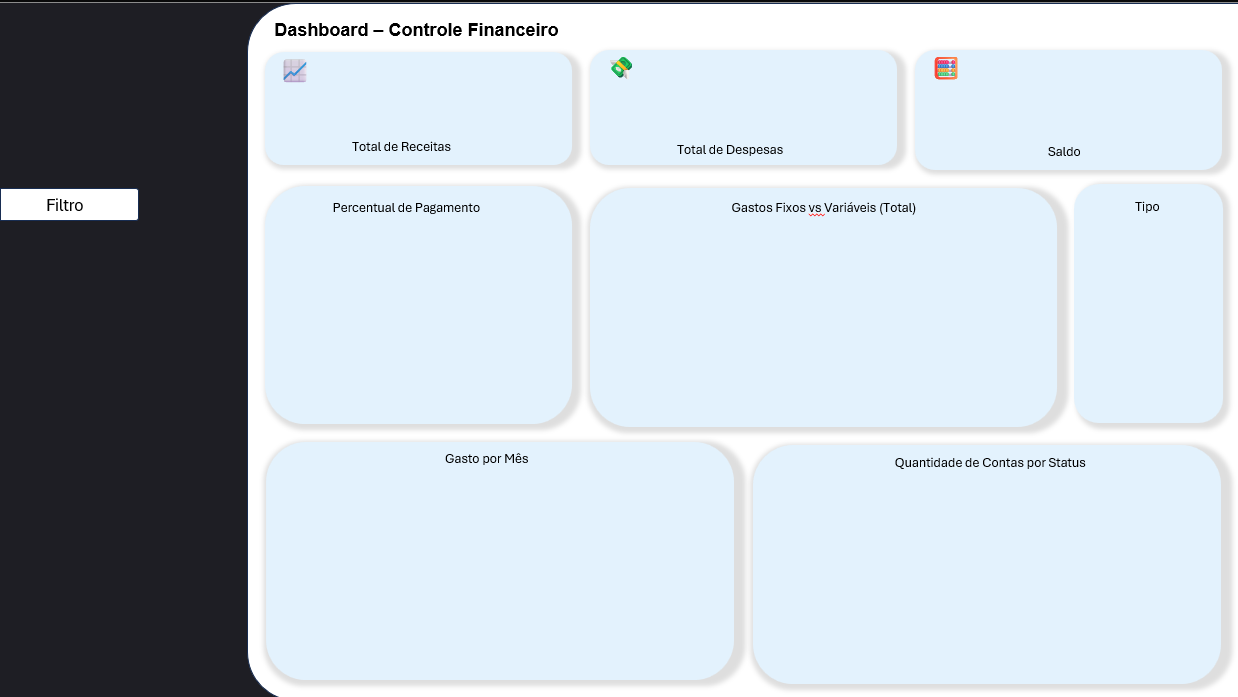

What the dashboard file says about the page in this screenshot:
{"tool":"powerbi","page":{"name":"Página 1","canvas":[1280,720],"ordinal":0},"visuals":[{"type":"pieChart","title":"Forma de Pagamento","fields":{"Category":["Controle de Gastos.Forma de Pagamento"],"Y":["CountNonNull(Controle de Gastos.Forma de Pagamento)"]},"box":[300,202.5,266.2,220],"z":0},{"type":"card","fields":{"Values":["Medidas.Soma de Despesas"]},"box":[631,41,278.7,106.2],"z":1000},{"type":"card","fields":{"Values":["Medidas.Soma de Receitas"]},"box":[312.5,47.1,253.4,94.1],"z":2000},{"type":"clusteredColumnChart","title":"Gastos Por Mês","fields":{"Category":["Controle de Gastos.Nome mes"],"Y":["Medidas.Soma de Despesas","Medidas.Soma de Receitas","Medidas.Saldo"]},"box":[287.5,465,471.2,237.5],"z":3000},{"type":"advancedSlicerVisual","fields":{"Values":["Controle de Gastos.Categoria"]},"box":[14.5,230.4,142.4,444],"z":4000},{"type":"card","fields":{"Values":["Medidas.Saldo2"]},"box":[973.6,47.1,260.6,106.2],"z":5000},{"type":"advancedSlicerVisual","fields":{"Values":["Controle de Gastos.Tipo"]},"box":[1113.5,230.4,148.4,189.4],"z":6000},{"type":"clusteredColumnChart","title":"Status de Contas","fields":{"Y":["CountNonNull(Controle de Gastos.Nome mes)"],"Category":["Controle de Gastos.Status"]},"box":[803.5,464.5,448.8,234],"z":7000},{"type":"barChart","title":"Controle de Gastos","fields":{"Category":["Controle de Gastos.Tipo de Gasto"],"Y":["Sum(Controle de Gastos.Valor)"]},"box":[631.2,213.8,453.8,208.8],"z":8000},{"type":"actionButton","box":[21.7,667.2,127.9,45.8],"z":9000},{"type":"advancedSlicerVisual","fields":{"Values":["Controle de Gastos.Nome mes"]},"box":[0,62.5,231.2,62.5],"z":9001}]}

Visuals, with their boxes on the page's 1280x720 design canvas (x1, y1, x2, y2). These are canvas units, not pixel positions in the 1238x697 screenshot, which may show the page scaled, cropped or inside an application window:
"Forma de Pagamento" pieChart: x1=300 y1=202 x2=566 y2=422
card - Medidas.Soma de Despesas: x1=631 y1=41 x2=910 y2=147
card - Medidas.Soma de Receitas: x1=312 y1=47 x2=566 y2=141
"Gastos Por Mês" clusteredColumnChart: x1=288 y1=465 x2=759 y2=702
advancedSlicerVisual - Controle de Gastos.Categoria: x1=14 y1=230 x2=157 y2=674
card - Medidas.Saldo2: x1=974 y1=47 x2=1234 y2=153
advancedSlicerVisual - Controle de Gastos.Tipo: x1=1114 y1=230 x2=1262 y2=420
"Status de Contas" clusteredColumnChart: x1=804 y1=464 x2=1252 y2=698
"Controle de Gastos" barChart: x1=631 y1=214 x2=1085 y2=423
actionButton: x1=22 y1=667 x2=150 y2=713
advancedSlicerVisual - Controle de Gastos.Nome mes: x1=0 y1=62 x2=231 y2=125
